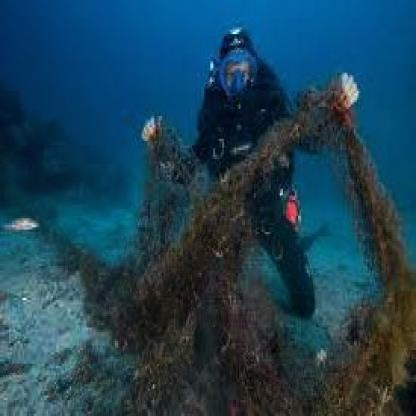net: (143, 140, 276, 416)
